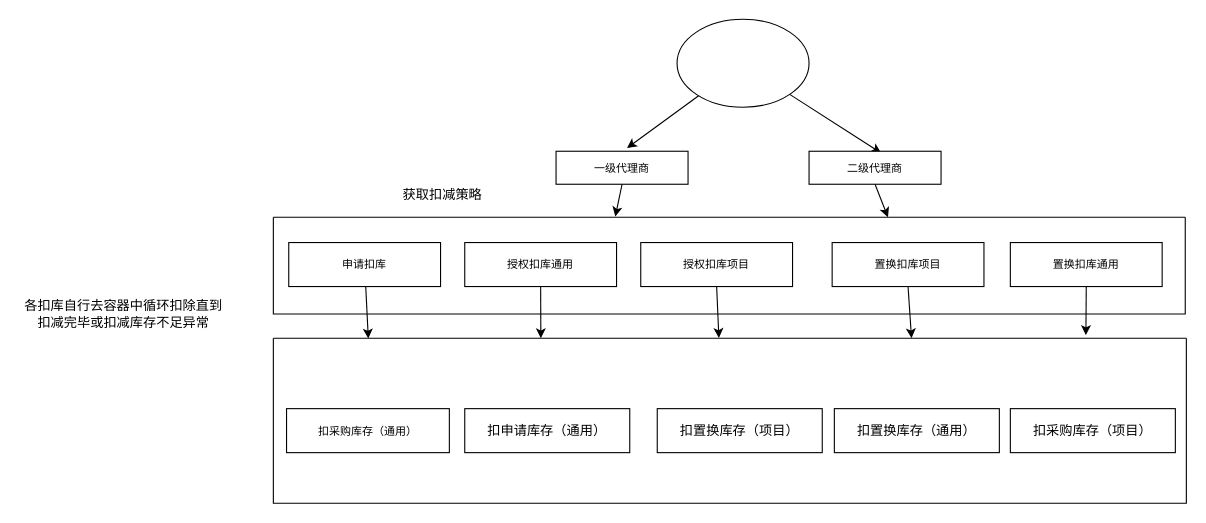
Some shapes in this 1206 by 523 pixel diagram are drawn without their labels. The centre of each missing label's shape, as x and y in pixels:
"扣库" goes at (742,62).
"构建代理商+产品+库存类型容器数据" goes at (729,420).
